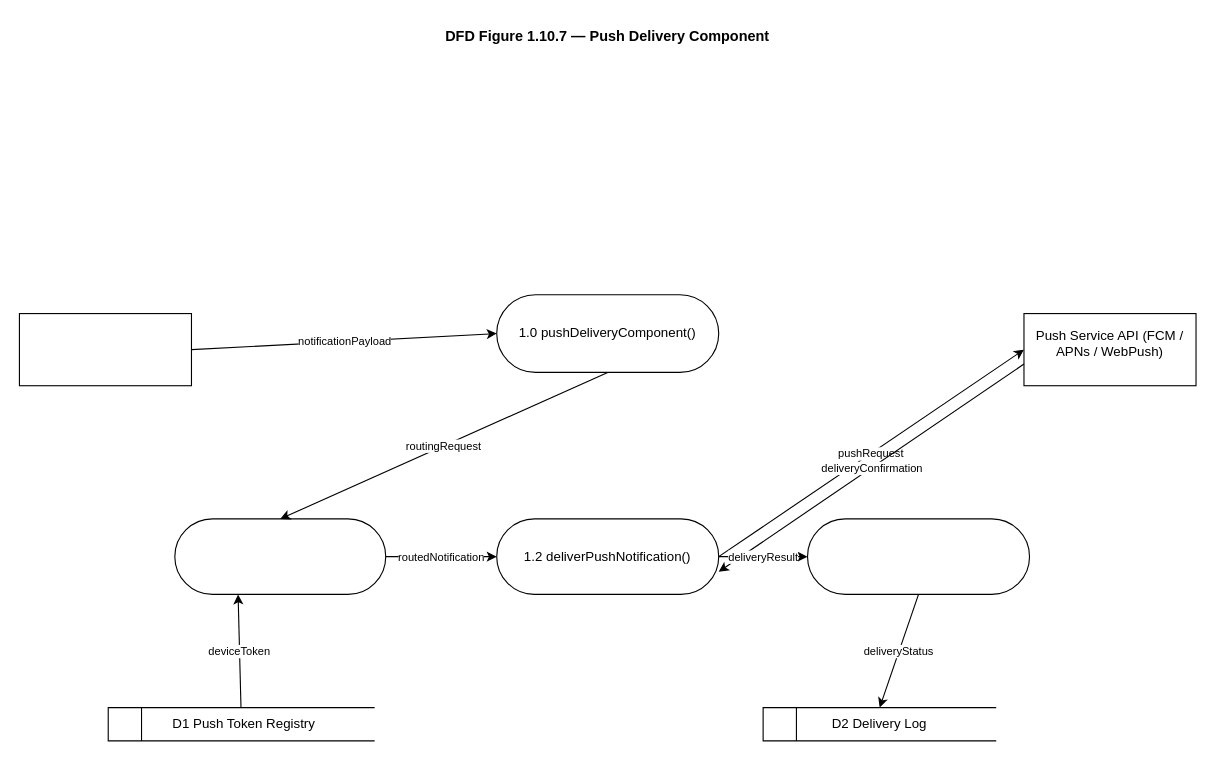
Image size: 1215x760. Some labels were removed from this diagram. The shapes that lost their labels are listed below. From the top down, each one's centre as x and y in pixels, then its label:
At point (104, 349): "Notification Orchestrator".
At point (280, 556): "1.1 routeToService()".
At point (918, 556): "1.3 recordDeliveryStatus()".
